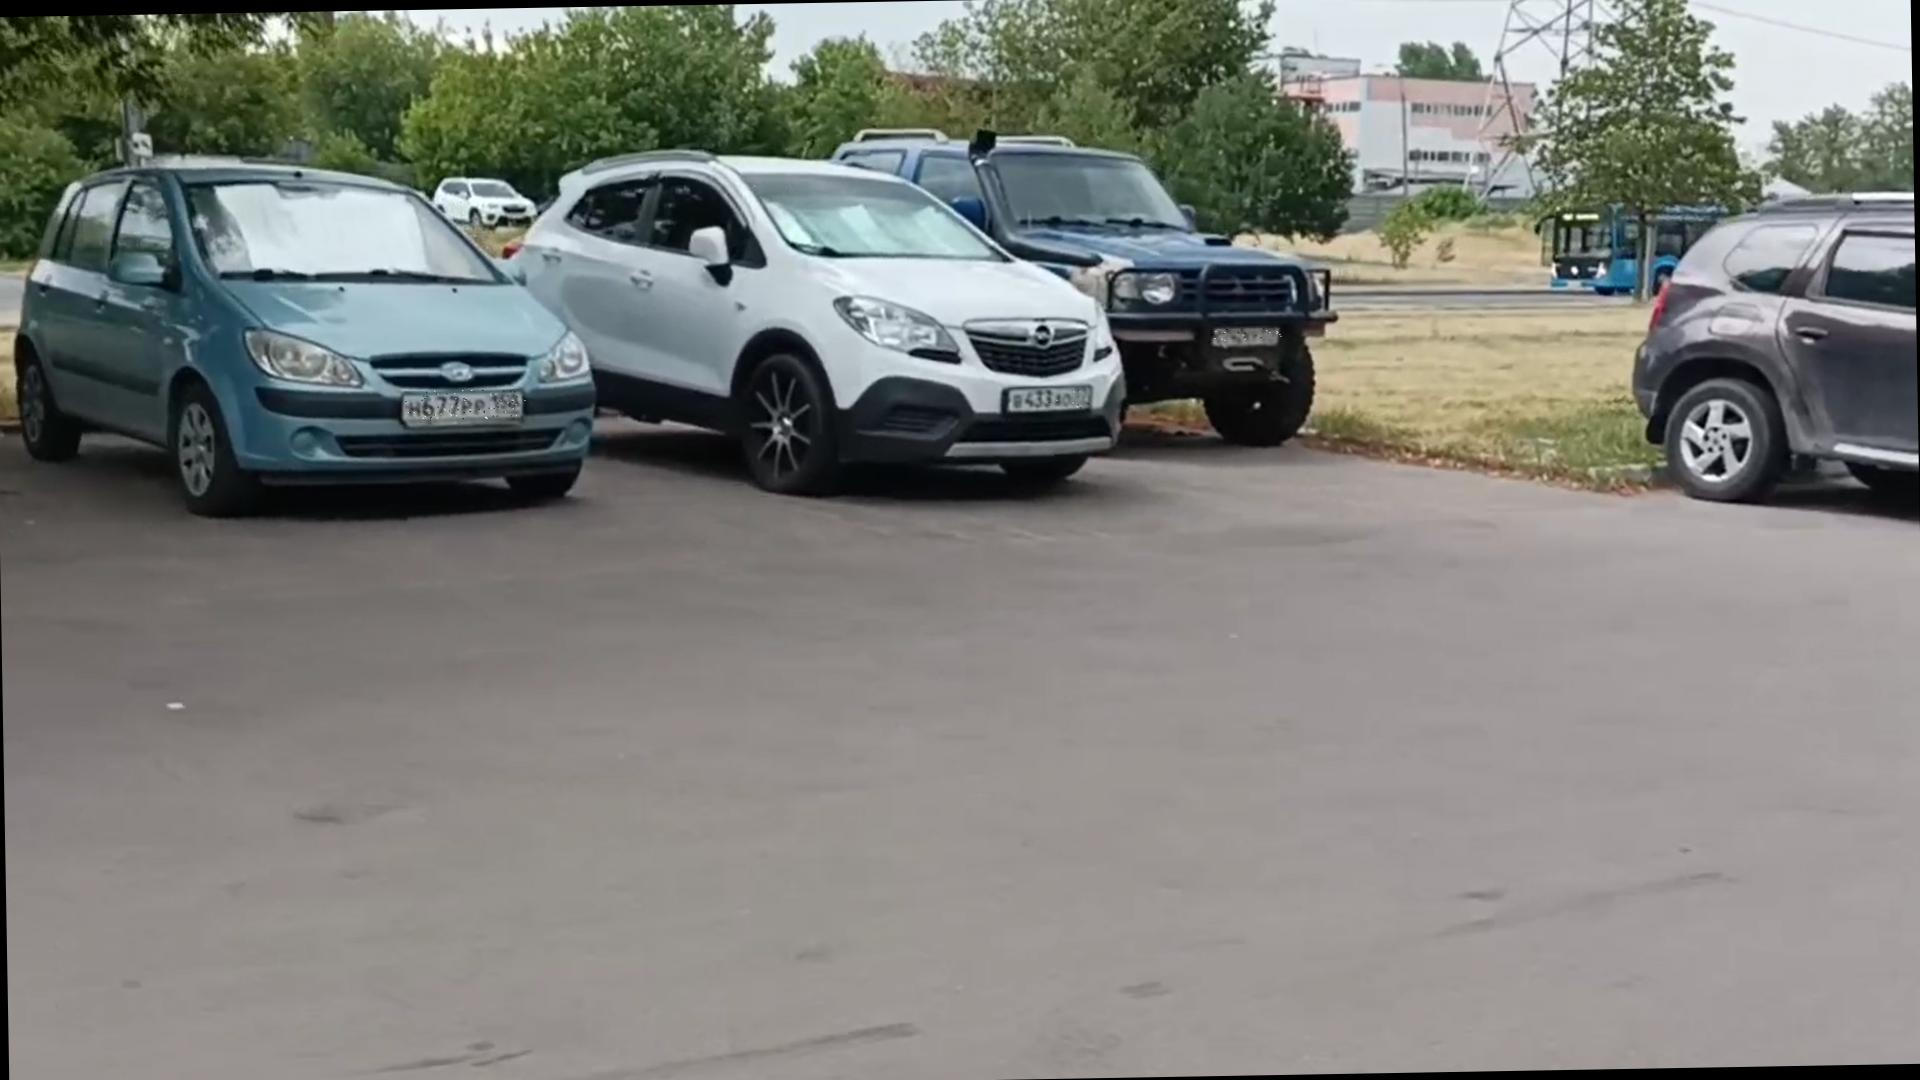plate: (407, 391, 528, 423), (1010, 388, 1090, 416), (1211, 329, 1285, 342)
